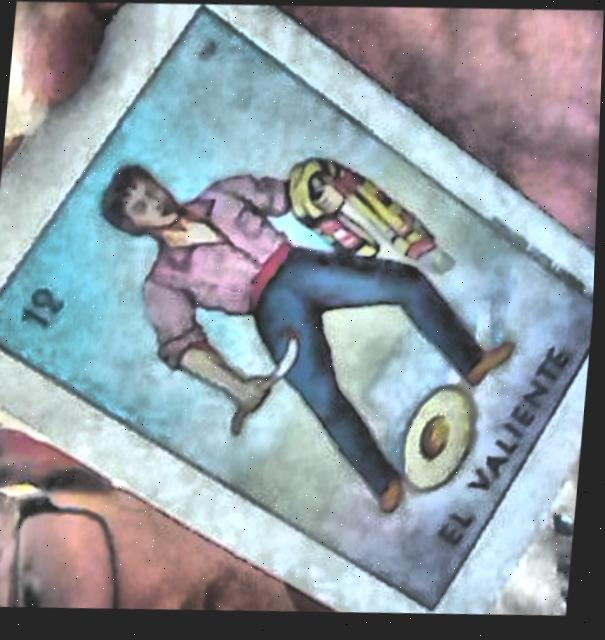El Valiente: (0, 7, 596, 612)
